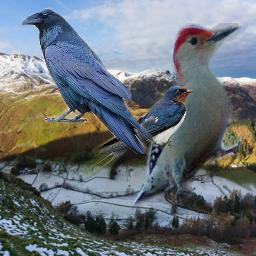Crow: (19, 7, 154, 154)
Swallow: (82, 86, 194, 180)
Woodpecker: (130, 23, 243, 210)
